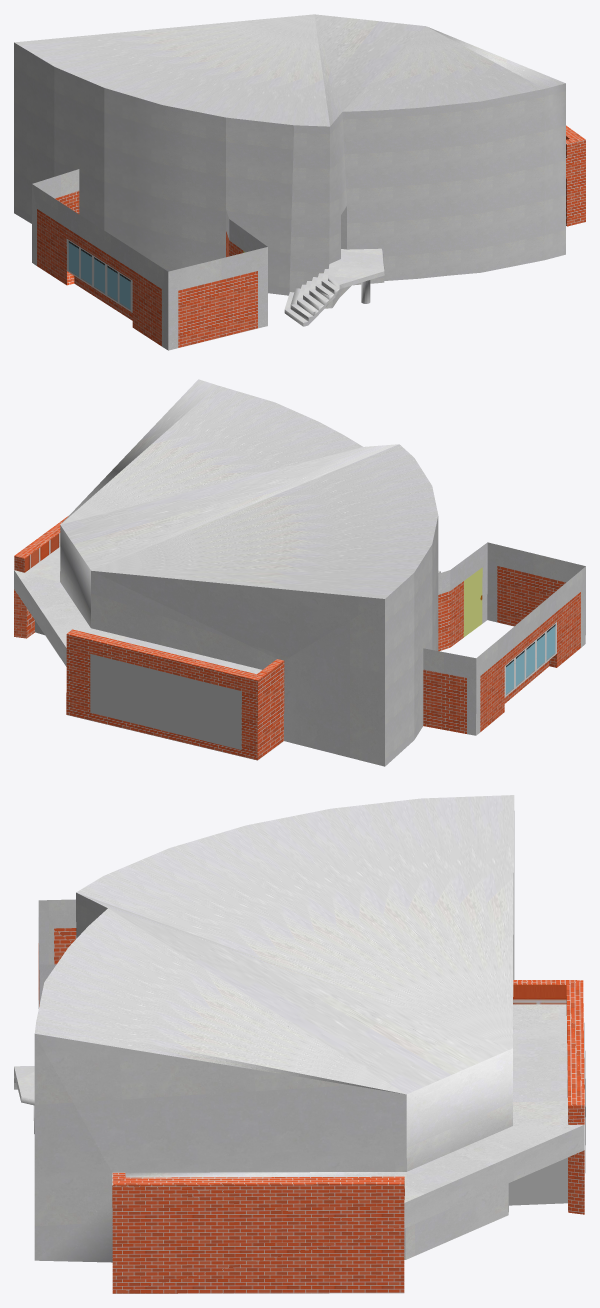
The model's file is pabellon_5.fbx.
3 views of the same model, one above another, from view 1: azimuth 30°, elevation 25°; view 2: azimuth 150°, elevation 25°; view 3: azimuth 270°, elevation 25° (orthographic). The views are drawn at different scales.
Visible parts, largest first — view 1: pabellon_5_final; view 2: pabellon_5_final; view 3: pabellon_5_final.
Part boxes in pixels (bbox=[...]): pabellon_5_final: bbox=[14, 14, 585, 350]; pabellon_5_final: bbox=[14, 379, 585, 766]; pabellon_5_final: bbox=[14, 795, 585, 1293].
Bounding box in the file's own units: 2242 × 806 × 1830.
